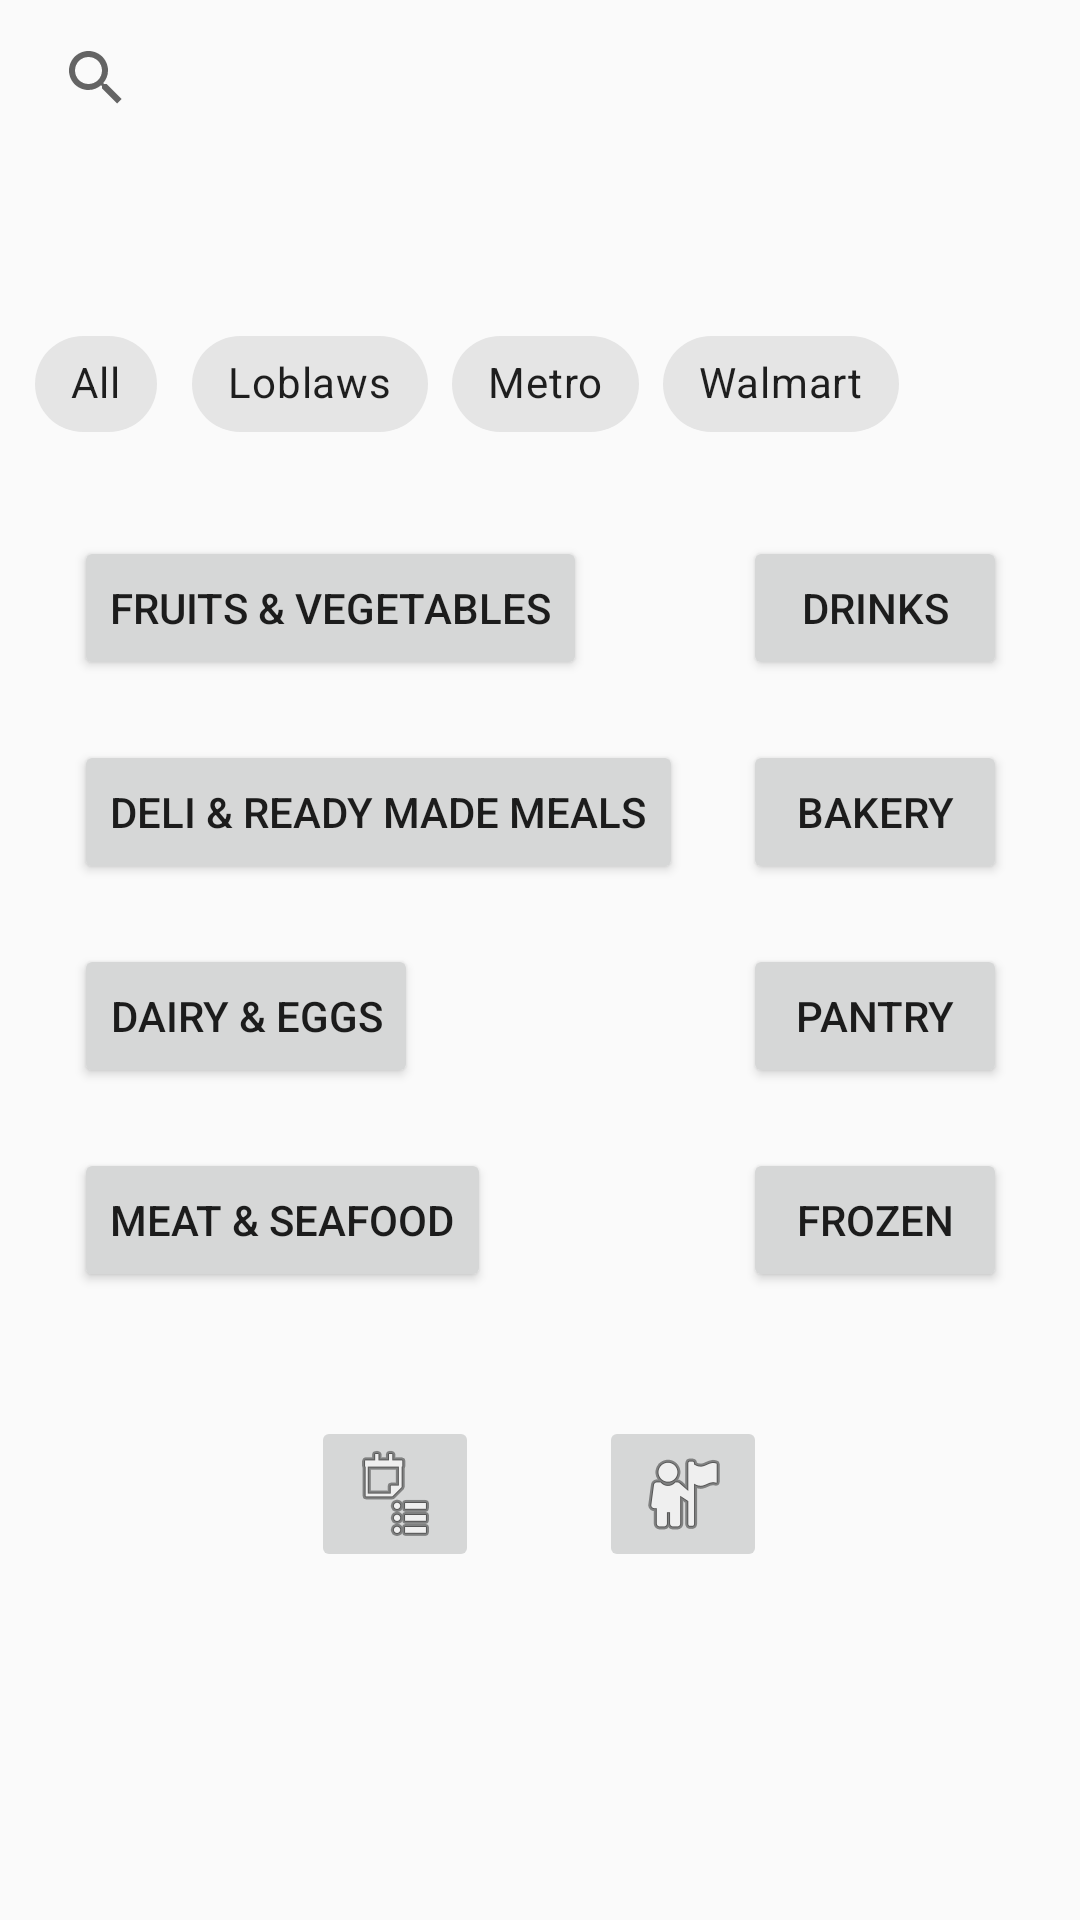

Where icons sit on this 1080 × 1920 app screen, as (x1,y1,x2,y2):
My Grocery List: (323,1434,467,1554)
